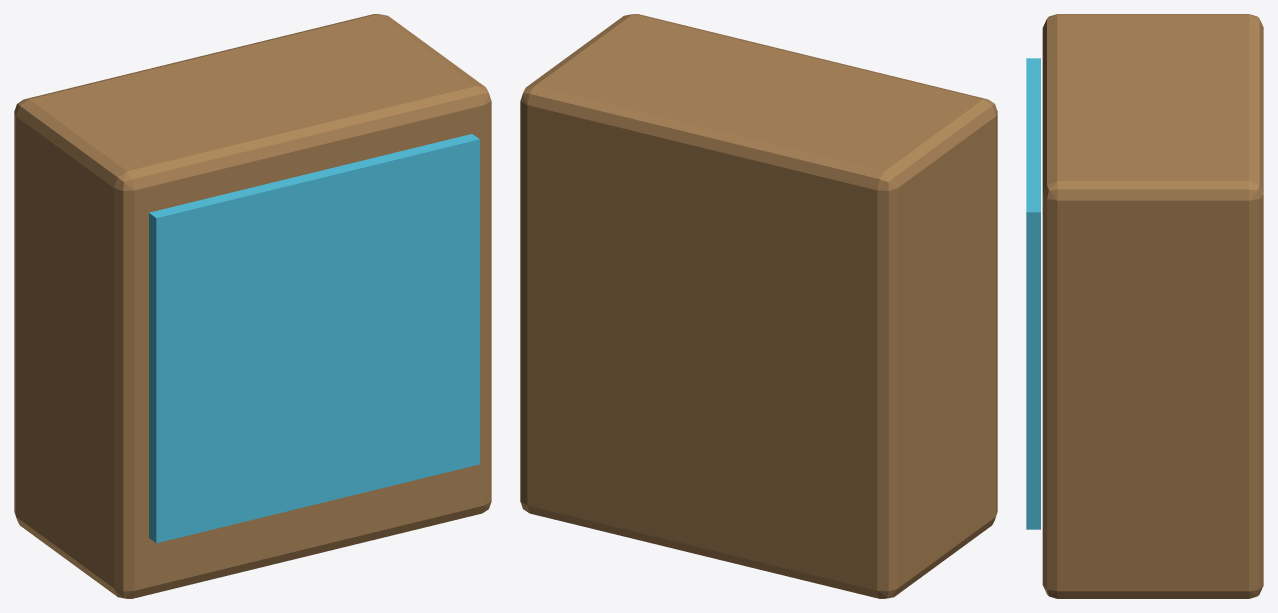
Rendered from CC_S16_P2_Product_SignalPro_Box_LOD0.fbx.
3 renders of one model, left to right at view 1: azimuth 30°, elevation 25°; view 2: azimuth 150°, elevation 25°; view 3: azimuth 270°, elevation 25°, orthographic. The views are drawn at different scales.
Parts seen in each view (by area): view 1: CC_S16_P2_Product_SignalPro_Box_LOD0_Box, CC_S16_P2_Product_SignalPro_Box_LOD0_FrontPanel; view 2: CC_S16_P2_Product_SignalPro_Box_LOD0_Box; view 3: CC_S16_P2_Product_SignalPro_Box_LOD0_Box, CC_S16_P2_Product_SignalPro_Box_LOD0_FrontPanel.
Part boxes in pixels (x1=…): CC_S16_P2_Product_SignalPro_Box_LOD0_Box: x1=14, y1=14, x2=491, y2=598; CC_S16_P2_Product_SignalPro_Box_LOD0_FrontPanel: x1=149, y1=134, x2=479, y2=543; CC_S16_P2_Product_SignalPro_Box_LOD0_Box: x1=520, y1=14, x2=997, y2=598; CC_S16_P2_Product_SignalPro_Box_LOD0_Box: x1=1042, y1=14, x2=1263, y2=598; CC_S16_P2_Product_SignalPro_Box_LOD0_FrontPanel: x1=1026, y1=58, x2=1040, y2=529.
Size of what is drawn, in the model's own units: 0.23 by 0.25 by 0.129.
